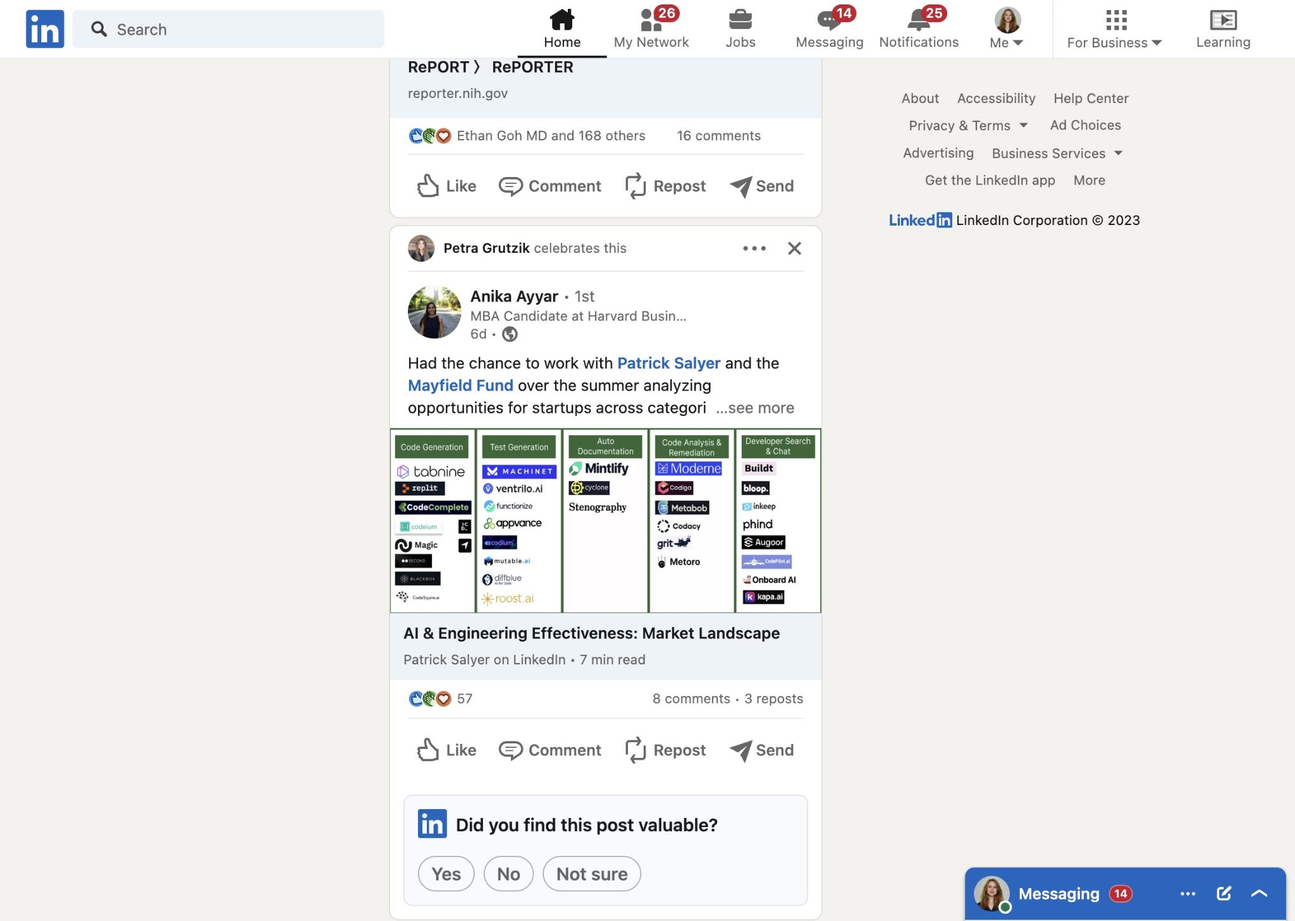webelement: (389, 427, 820, 611), (407, 354, 790, 550), (847, 84, 1181, 229), (517, 0, 1267, 57), (402, 620, 807, 669), (407, 55, 802, 103), (469, 284, 766, 324), (72, 9, 384, 46), (1052, 0, 1178, 57), (402, 623, 779, 641), (489, 159, 610, 212), (489, 722, 610, 775), (455, 812, 716, 834), (33, 8, 187, 44), (469, 324, 766, 342), (614, 159, 714, 212), (614, 722, 714, 775), (517, 0, 606, 57), (606, 0, 695, 57), (963, 0, 1052, 57), (1178, 0, 1267, 57), (469, 307, 766, 324), (696, 0, 784, 57), (785, 0, 873, 57), (874, 0, 962, 57), (407, 126, 671, 143), (719, 159, 802, 212), (719, 722, 802, 775), (407, 688, 646, 706), (407, 159, 485, 212), (407, 722, 485, 775), (512, 232, 696, 254), (340, 707, 569, 724), (223, 15, 396, 37), (402, 651, 644, 666), (407, 35, 602, 53), (542, 855, 640, 890), (407, 659, 596, 677), (407, 57, 573, 76), (407, 284, 460, 342), (51, 15, 169, 37), (991, 143, 1126, 162), (908, 115, 1032, 134), (527, 170, 601, 201), (527, 733, 601, 764), (924, 171, 1054, 188), (614, 173, 714, 194), (614, 737, 714, 758), (21, 6, 67, 51), (705, 395, 793, 418), (417, 855, 473, 890), (1216, 4, 1260, 48), (705, 10, 793, 32), (407, 376, 512, 394), (617, 354, 720, 372), (416, 170, 475, 201), (416, 733, 475, 764), (1066, 32, 1164, 50), (483, 855, 533, 890), (719, 173, 802, 194), (719, 737, 802, 758), (652, 170, 704, 201), (652, 733, 704, 764), (470, 287, 557, 305), (407, 85, 507, 100), (1017, 884, 1098, 902), (878, 32, 958, 50), (530, 240, 626, 255), (676, 126, 760, 143), (956, 88, 1035, 106), (651, 688, 729, 706), (613, 32, 688, 50), (1053, 88, 1128, 106), (442, 240, 529, 255), (973, 876, 1009, 912), (1169, 876, 1205, 912), (1049, 115, 1120, 133), (902, 143, 973, 161), (587, 225, 623, 260), (776, 229, 811, 265), (1205, 876, 1240, 912), (1241, 876, 1276, 912), (795, 32, 862, 50), (755, 170, 792, 201), (755, 733, 792, 764), (743, 688, 802, 706), (890, 210, 952, 226), (1196, 32, 1250, 50), (470, 326, 517, 341), (562, 284, 594, 306), (994, 6, 1021, 32), (407, 234, 433, 260), (740, 234, 766, 260), (988, 32, 1025, 50), (901, 88, 938, 106), (543, 32, 579, 50), (1072, 171, 1104, 188), (724, 32, 754, 50), (653, 3, 680, 21), (921, 3, 946, 21), (832, 3, 856, 21), (420, 688, 438, 706), (1178, 885, 1196, 903), (420, 126, 438, 143), (407, 688, 424, 706), (434, 688, 451, 706), (407, 126, 424, 143), (434, 126, 451, 143)
